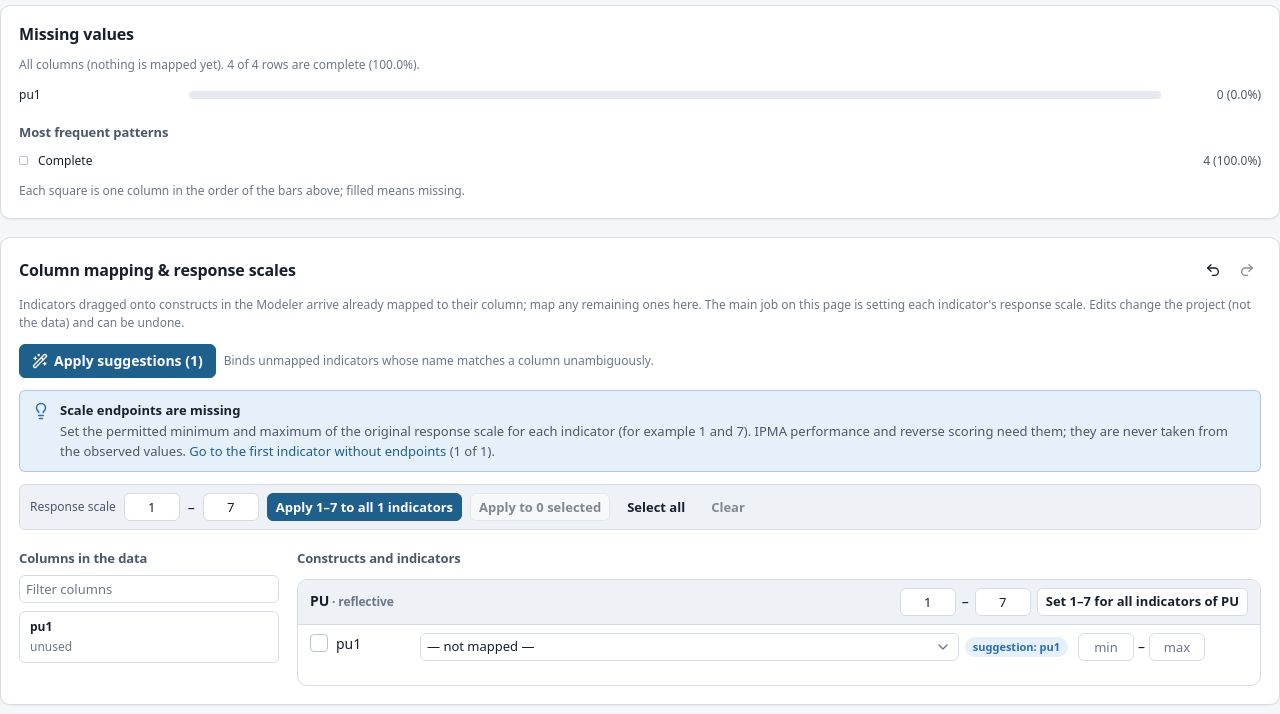
Test: mapping › highlights observed values outside the declared endpoints
The image size is (1280, 714).
Earlier steps of the test are not shown.
(page scrolled)
Click the button "Apply suggestions (1)".
click(117, 361)  # box [19,344,216,378]
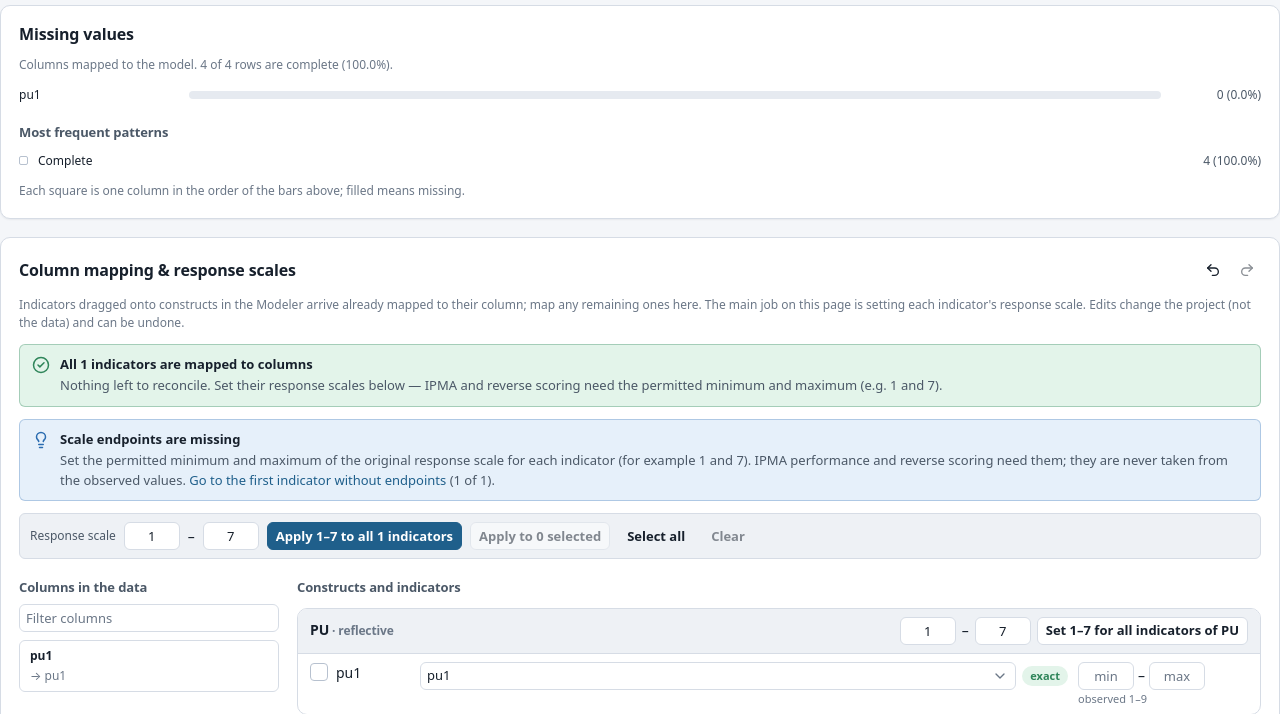
Type "1" into the field named "pu1 scale minimum".
click(1106, 676); type("1")  # box [1078,662,1134,690]
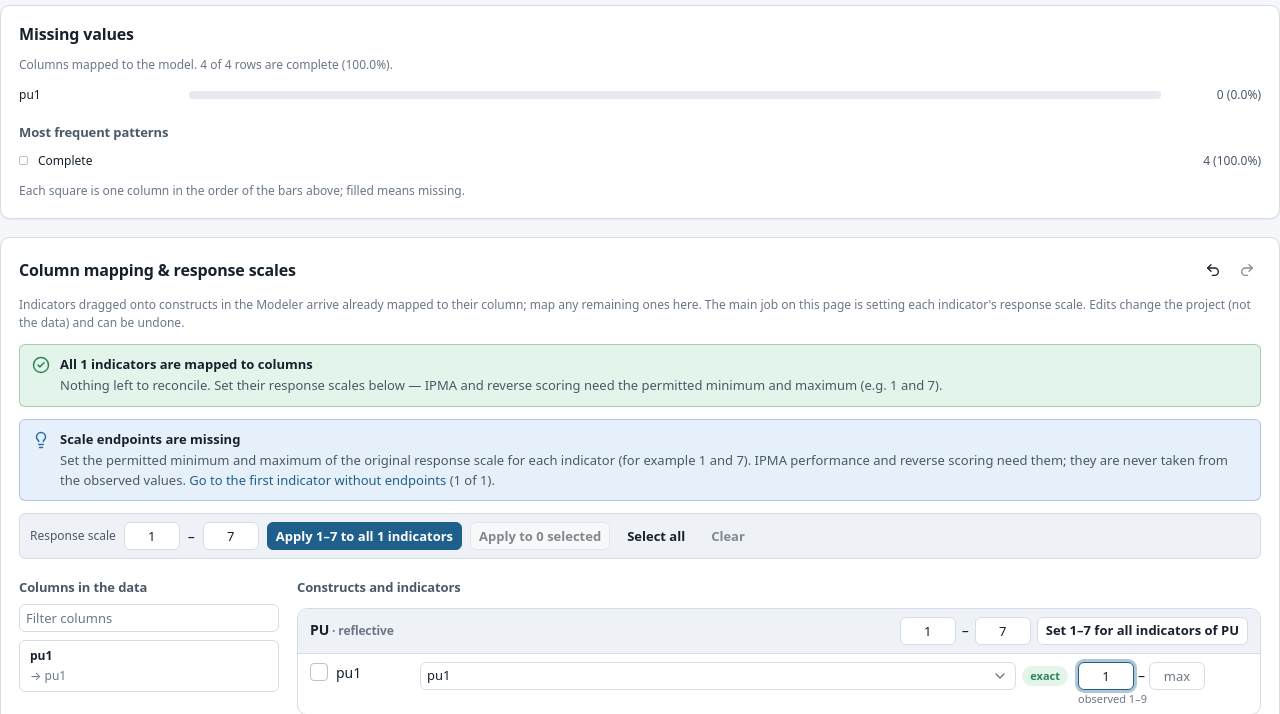
Type "7" into the field named "pu1 scale maximum".
click(1177, 676); type("7")  # box [1149,662,1205,690]
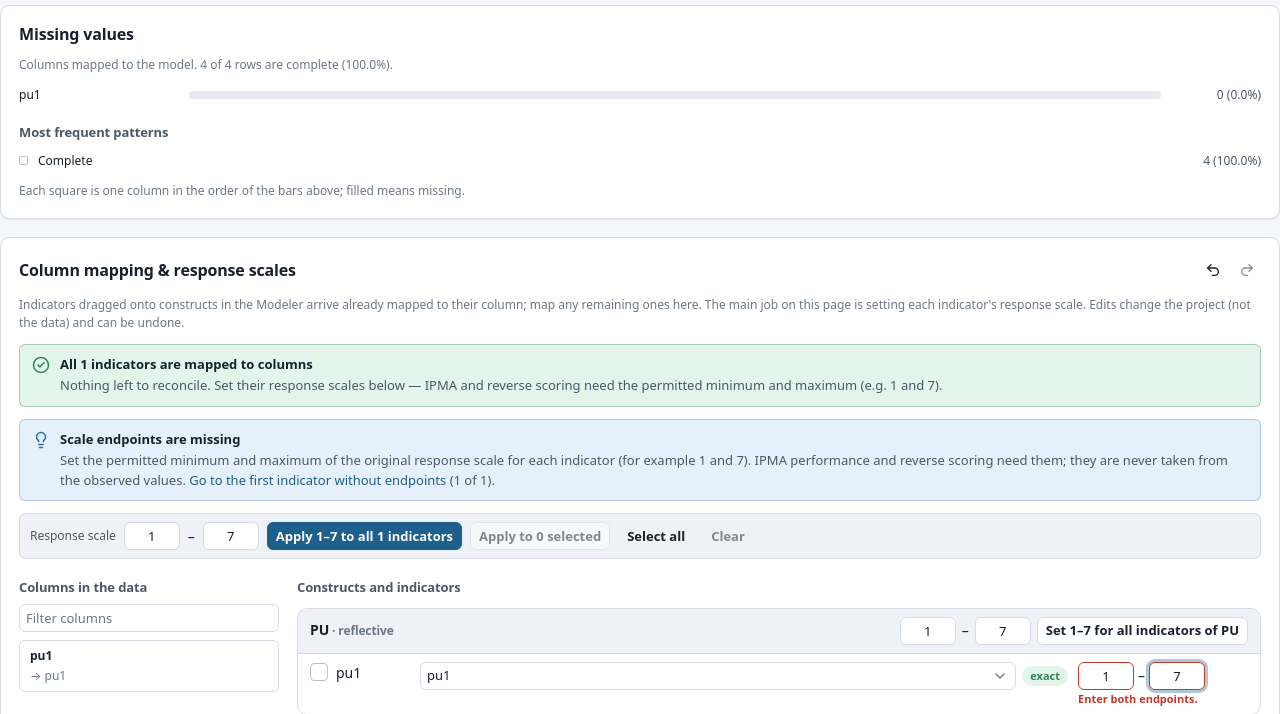
Press Tab
(page scrolled)
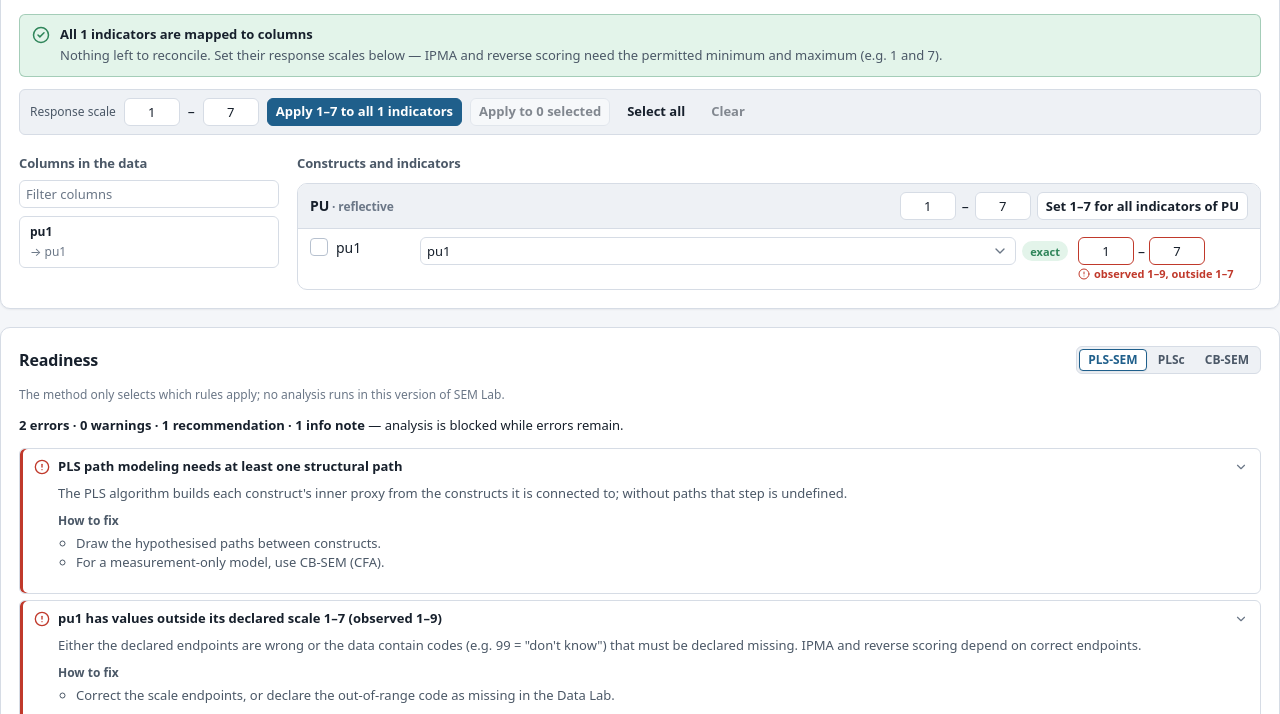
Now the text "observed 1–9, outside 1–7" is shown, box [1078,267,1248,281]
